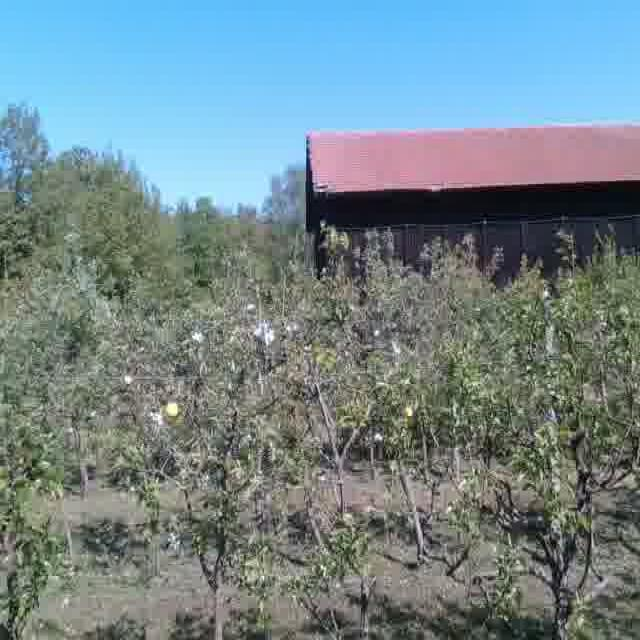yellow: (165, 400, 181, 417)
